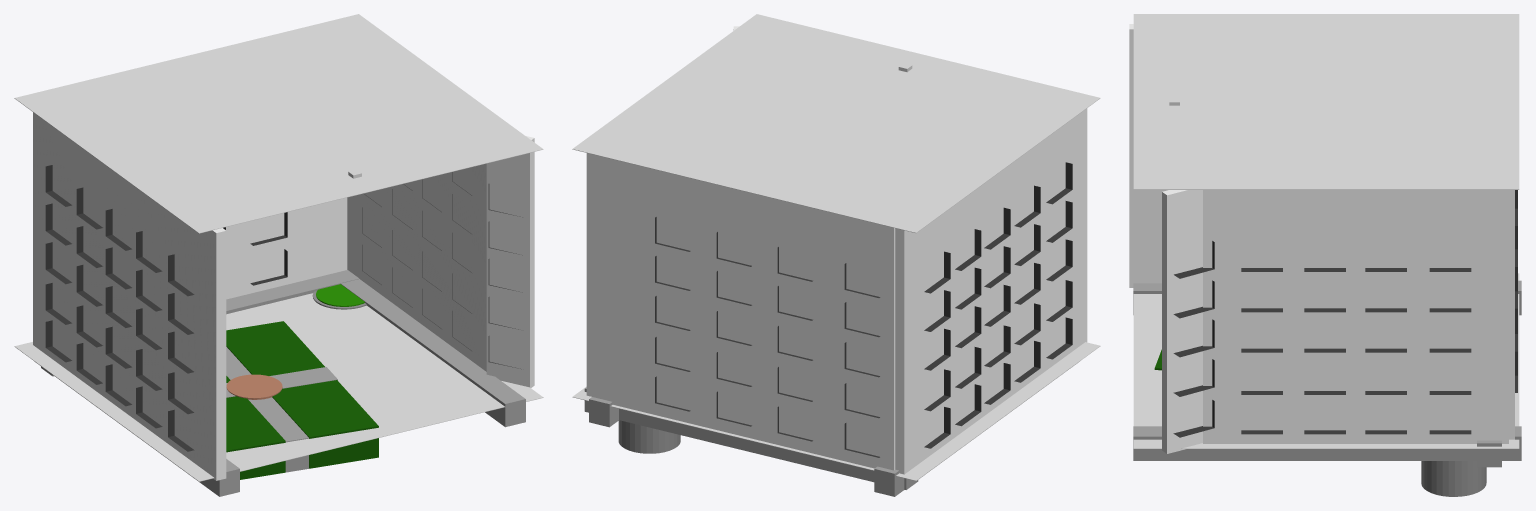
File: backrooms_level_188.glb
The picture shows the model from 3 angles, left to right: view 1: azimuth 30°, elevation 25°; view 2: azimuth 150°, elevation 25°; view 3: azimuth 270°, elevation 25°; orthographic projection. The views are drawn at different scales.
Parts seen in each view (by area): view 1: level 188; view 2: level 188; view 3: level 188.
Boxes of the visible parts, x1=… form: level 188: x1=14, y1=14, x2=543, y2=496; level 188: x1=572, y1=14, x2=1100, y2=496; level 188: x1=1129, y1=14, x2=1521, y2=496.
Bounding box in the file's own units: 82.79 × 68.13 × 75.53.
